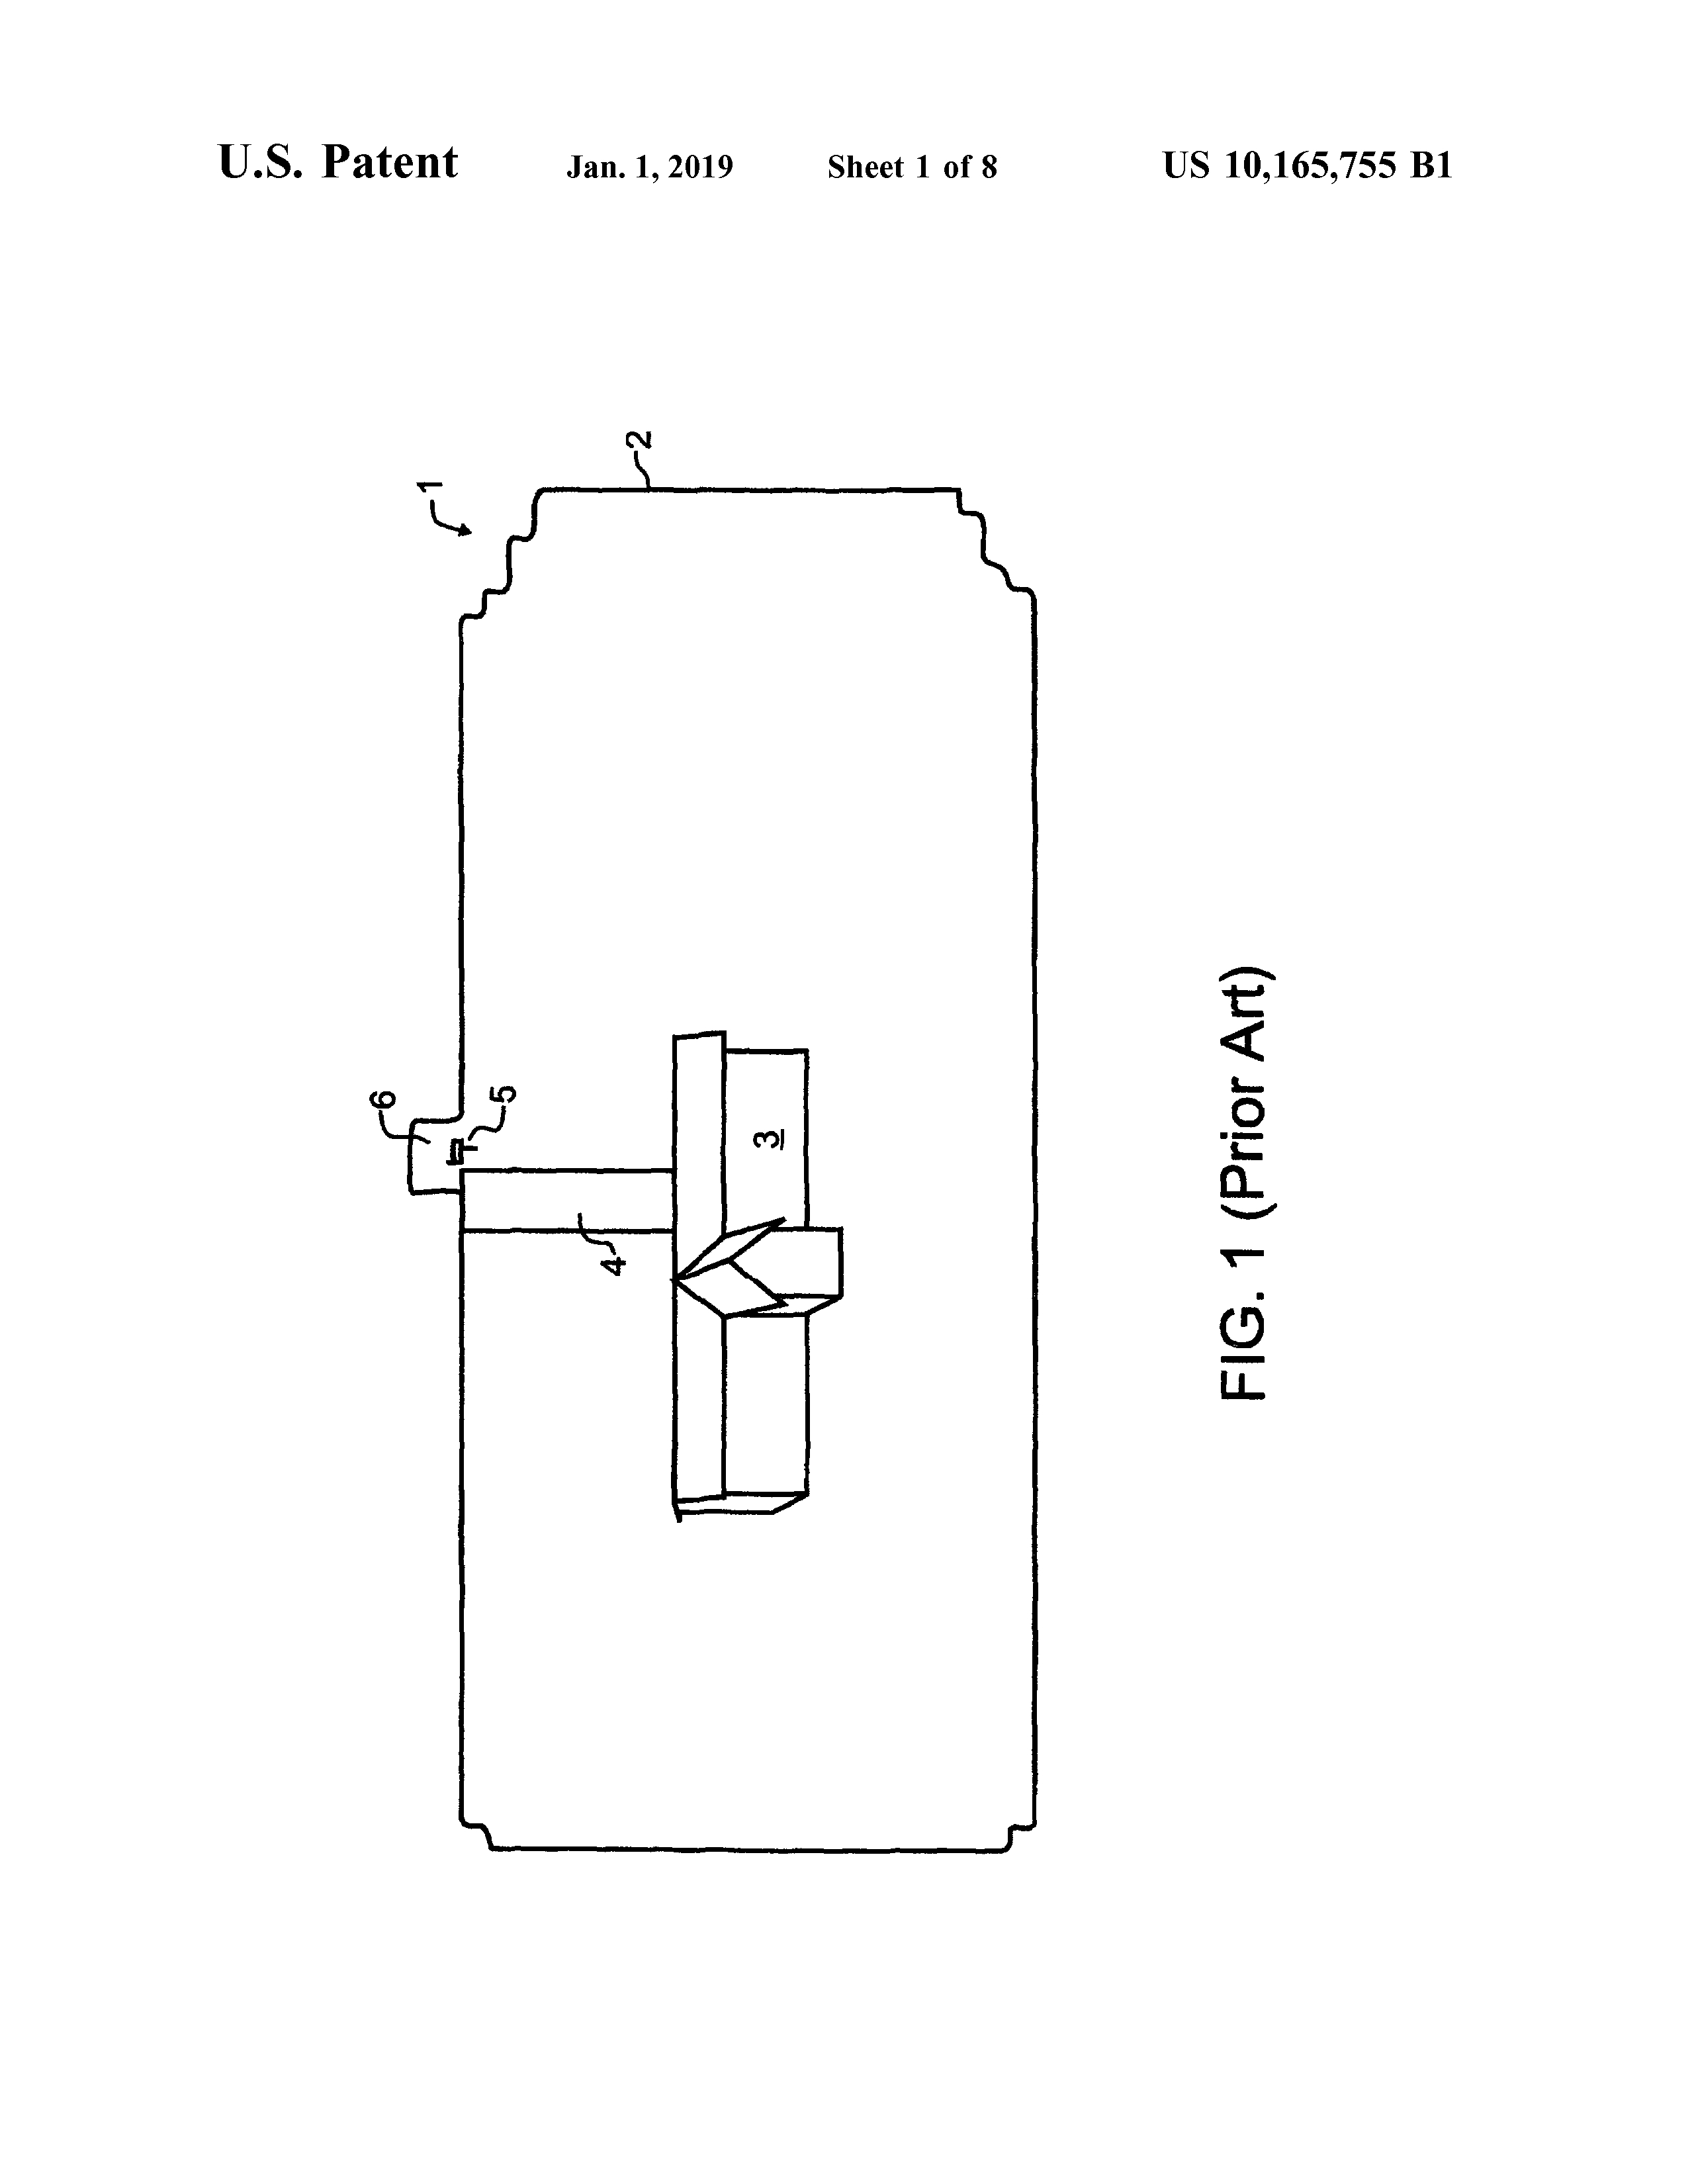patent image: (228, 369, 1350, 1972)
